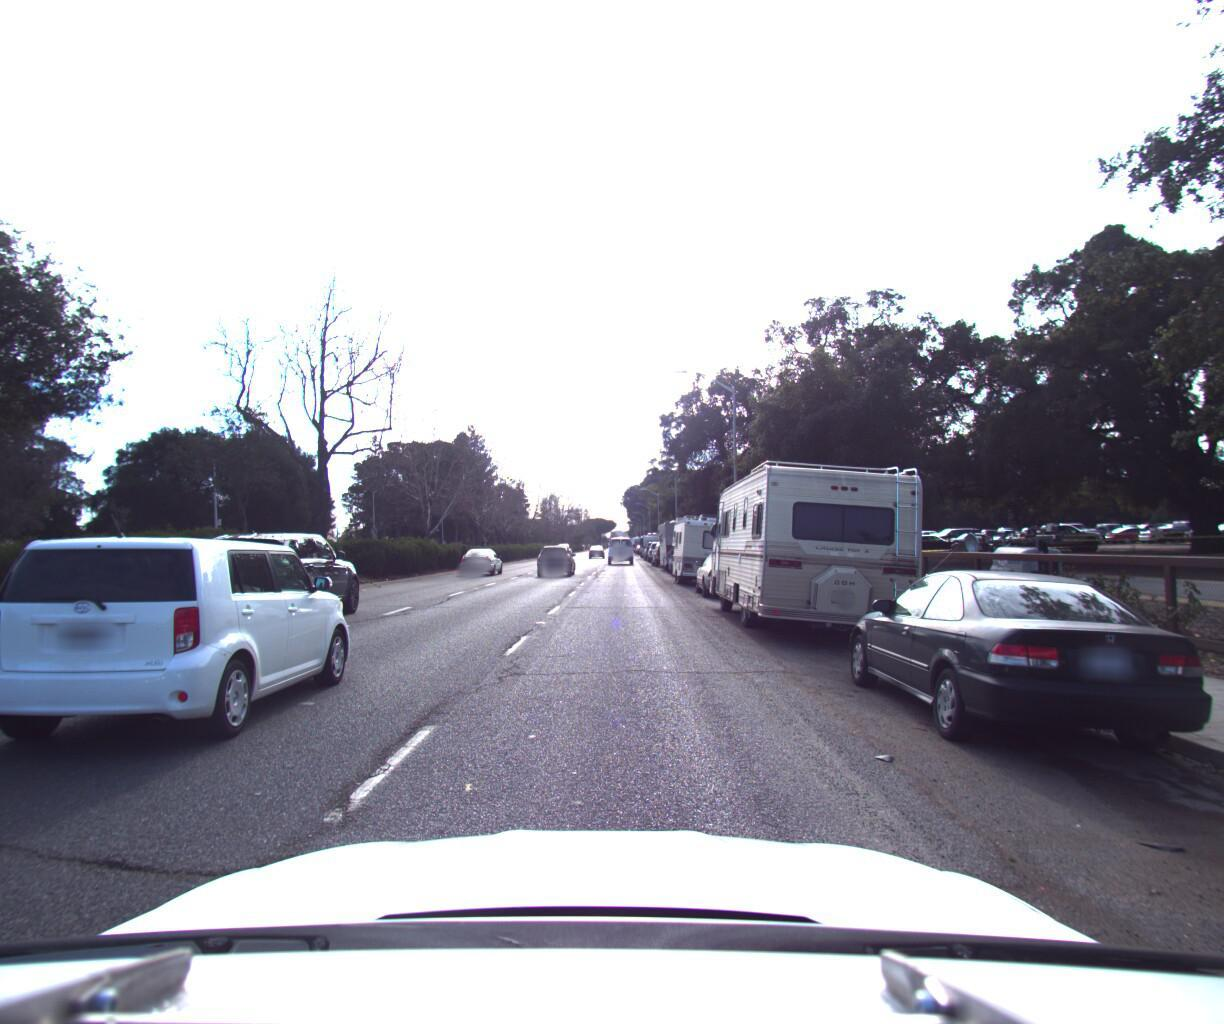car: (823, 558, 1224, 781), (0, 527, 365, 769), (193, 519, 374, 624), (685, 544, 771, 597), (534, 537, 577, 573), (460, 538, 505, 570), (607, 528, 633, 557), (650, 534, 678, 559)
other_vehicle: (703, 428, 947, 644), (668, 502, 742, 583), (653, 505, 705, 564), (641, 522, 666, 554)
